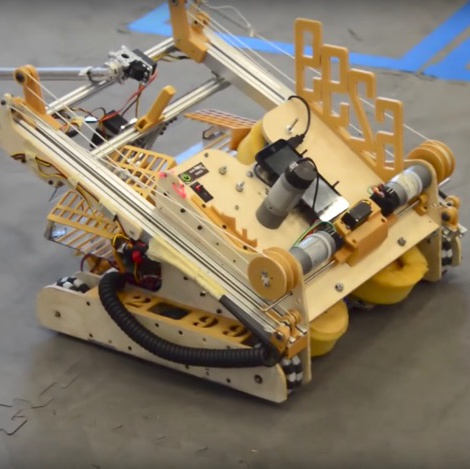robot: (2, 1, 470, 412)
